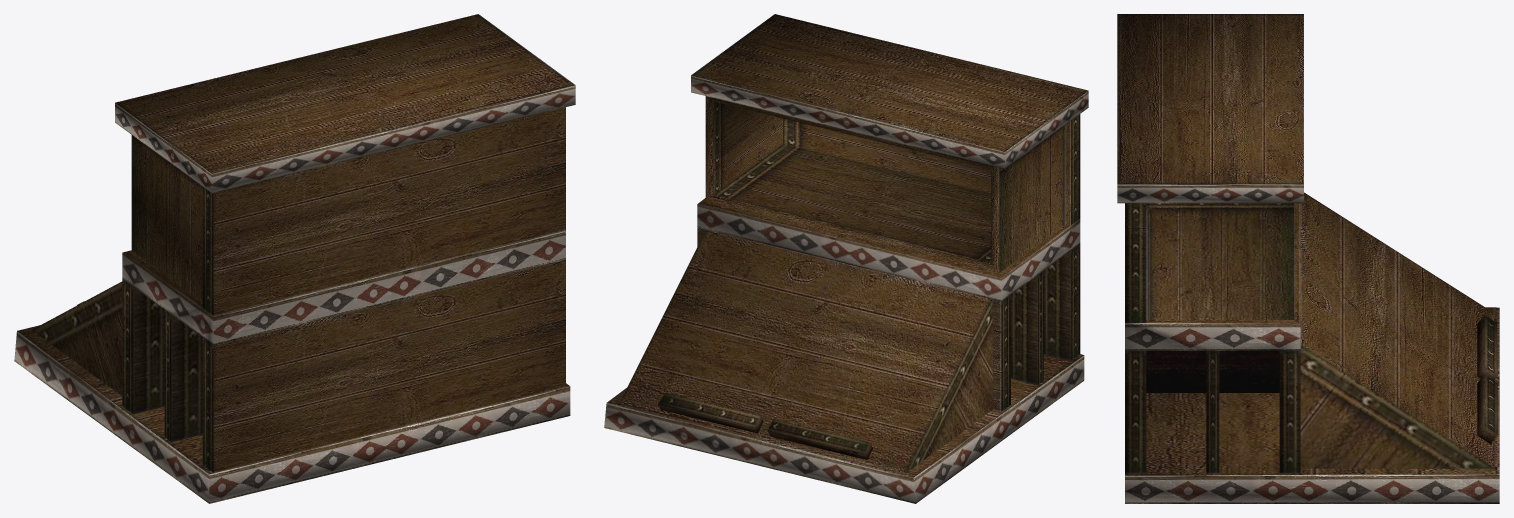
The model's file is KM_LAKOMY_SCHOLAR_BOOKSTAND_01.glb.
3 views of the same model, side by side, from view 1: azimuth 30°, elevation 25°; view 2: azimuth 150°, elevation 25°; view 3: azimuth 270°, elevation 25° (orthographic). The views are drawn at different scales.
Visible parts, largest first — view 1: Mesh; view 2: Mesh; view 3: Mesh.
Part boxes in pixels (x1,y1,x2,y2): Mesh: (14,14,575,503); Mesh: (604,14,1088,503); Mesh: (1117,14,1499,503).
Size of the model in its own units: 0.9633 by 0.8441 by 0.9133.
3 materials, 3 textured.
